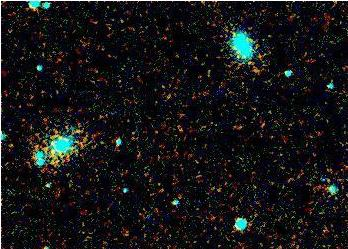star: (0, 126, 26, 156)
